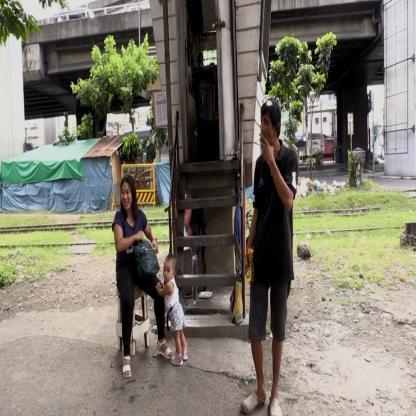person: (240, 95, 299, 415), (112, 172, 166, 378), (158, 250, 189, 366)
